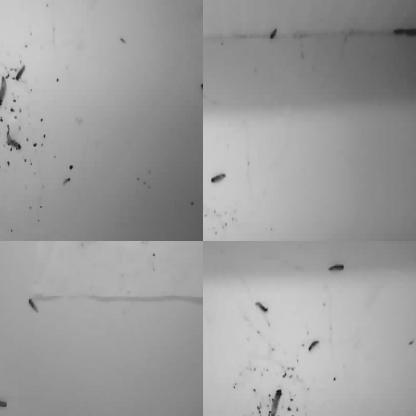PtecticusTenebrifer: (270, 389, 282, 416), (0, 76, 8, 107), (209, 172, 229, 184), (203, 172, 212, 196), (27, 298, 40, 314), (6, 138, 22, 150), (203, 179, 210, 204), (16, 64, 26, 80), (255, 301, 268, 313), (308, 339, 320, 351), (270, 26, 278, 42), (203, 142, 211, 157), (329, 264, 344, 272), (0, 397, 8, 410), (153, 241, 164, 250), (164, 241, 179, 247), (0, 182, 4, 203), (244, 241, 260, 246), (0, 4, 6, 17), (203, 38, 210, 49), (0, 125, 6, 137), (203, 177, 206, 201), (203, 213, 210, 223), (200, 82, 203, 100), (2, 241, 15, 245), (106, 0, 122, 3), (0, 57, 6, 65), (203, 190, 205, 212), (0, 241, 7, 247), (203, 241, 210, 247), (0, 0, 8, 4)
